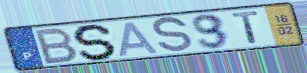9: (190, 12, 233, 50)
A: (118, 20, 162, 58)
B: (34, 26, 81, 66)
S: (72, 23, 119, 61), (151, 15, 194, 55)
T: (230, 10, 262, 45)
